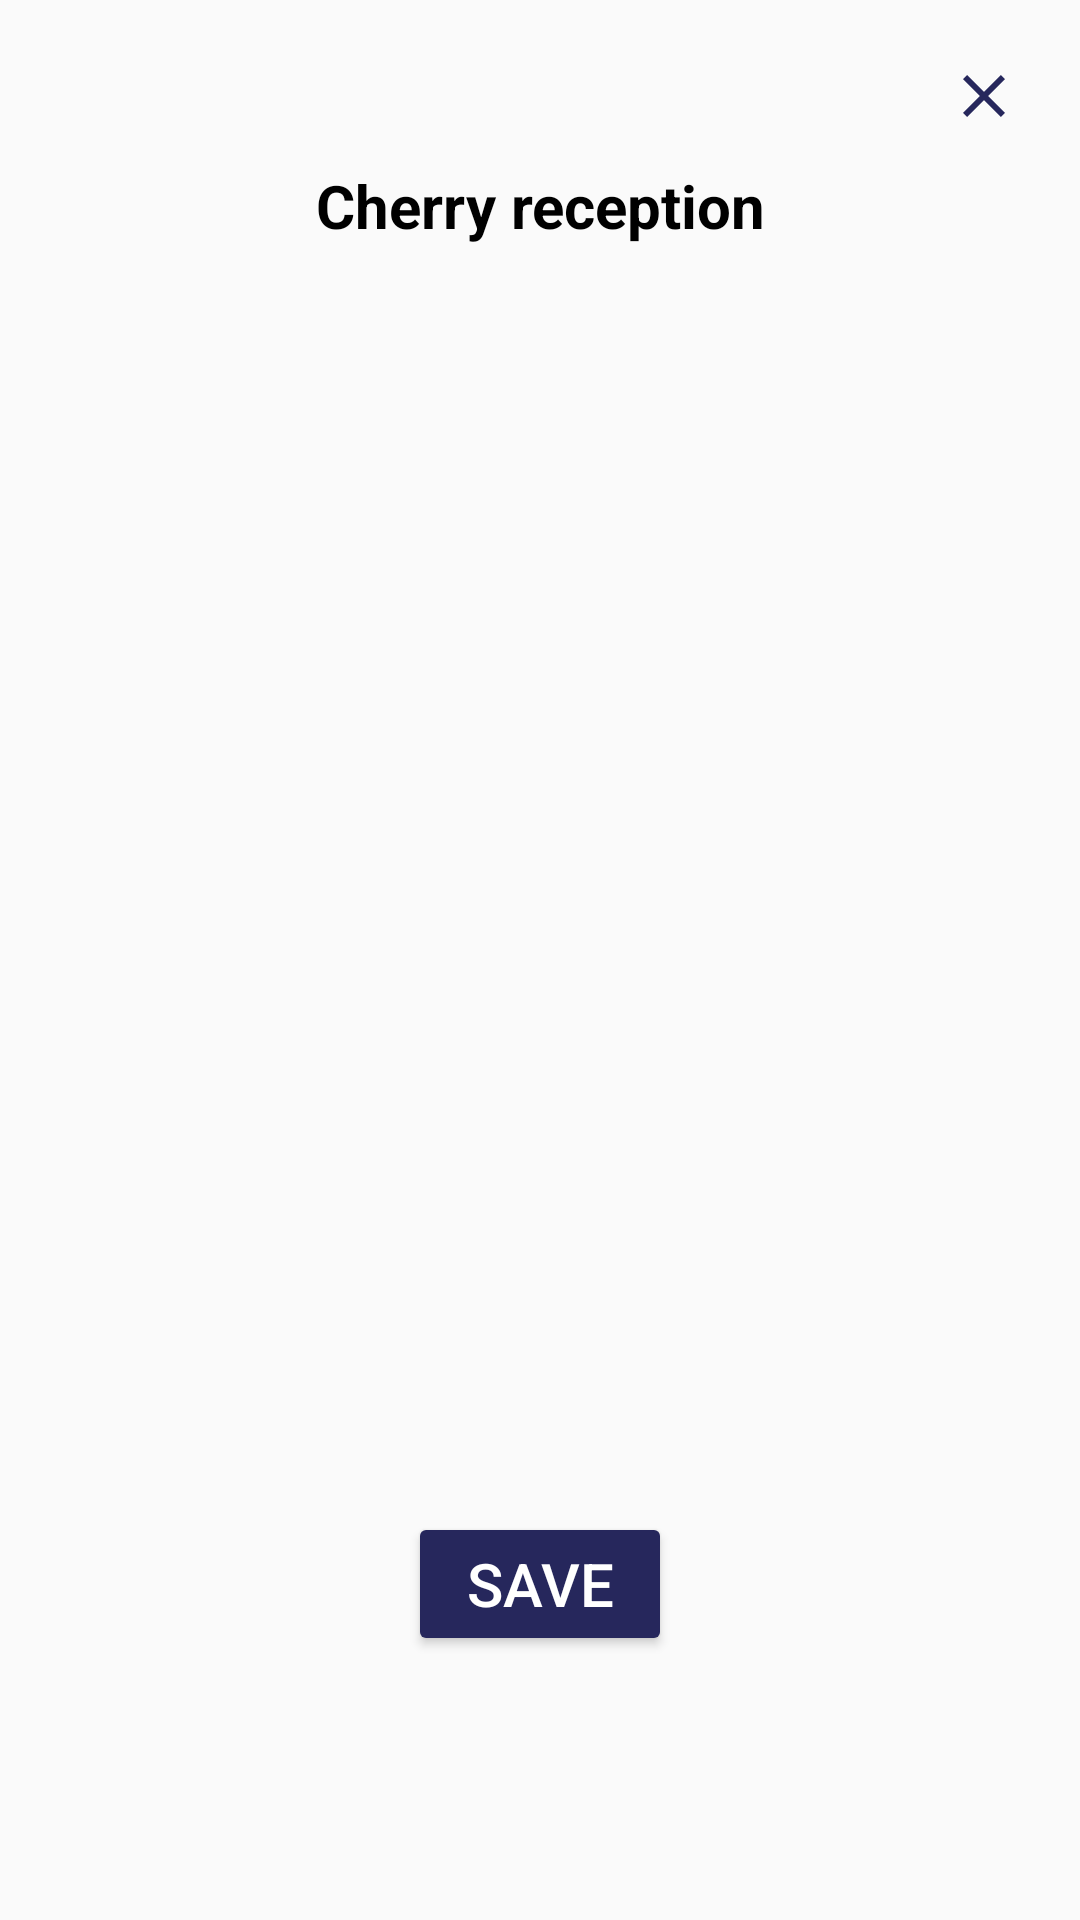

Point at icon controls on the screen. Image size 1080px x 1920px, points as (x=x, y=y).
close: (x=984, y=96)
